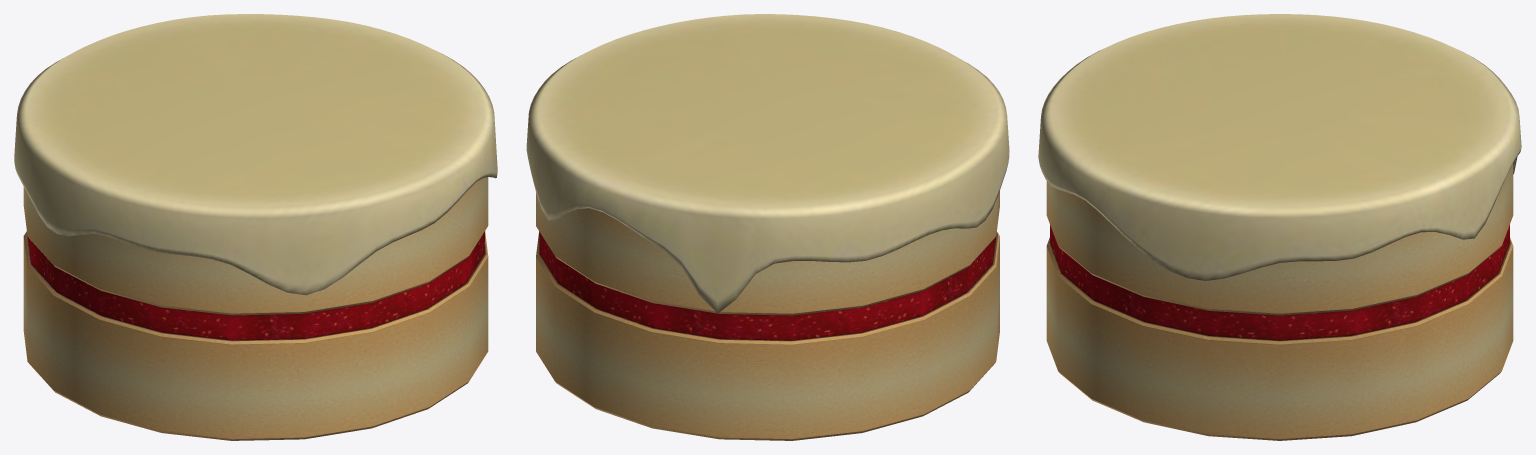
File: jamCreamCake.glb
3 views of the same model, side by side, from view 1: azimuth 30°, elevation 25°; view 2: azimuth 150°, elevation 25°; view 3: azimuth 270°, elevation 25° (orthographic).
Parts seen in each view (by area): view 1: JamCakeCreamLayer, JamCakeBottomLayer, JamCakeLayer, JamCakeFilling; view 2: JamCakeCreamLayer, JamCakeBottomLayer, JamCakeLayer, JamCakeFilling; view 3: JamCakeCreamLayer, JamCakeBottomLayer, JamCakeLayer, JamCakeFilling.
Boxes of the visible parts, left/top/right/bottom form: JamCakeCreamLayer: left=14, top=14, right=497, bottom=295; JamCakeBottomLayer: left=23, top=231, right=488, bottom=440; JamCakeLayer: left=23, top=177, right=488, bottom=315; JamCakeFilling: left=27, top=231, right=484, bottom=340; JamCakeCreamLayer: left=526, top=14, right=1009, bottom=313; JamCakeBottomLayer: left=536, top=231, right=999, bottom=440; JamCakeLayer: left=536, top=191, right=999, bottom=315; JamCakeFilling: left=539, top=232, right=996, bottom=340; JamCakeCreamLayer: left=1038, top=14, right=1521, bottom=280; JamCakeBottomLayer: left=1046, top=237, right=1513, bottom=440; JamCakeLayer: left=1046, top=163, right=1513, bottom=315; JamCakeFilling: left=1050, top=225, right=1509, bottom=340.
Bounding box in the file's own units: 0.2749 × 0.146 × 0.2749.
Materials: 1 (1 with a texture image).
